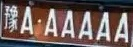A: (20, 7, 33, 34)
